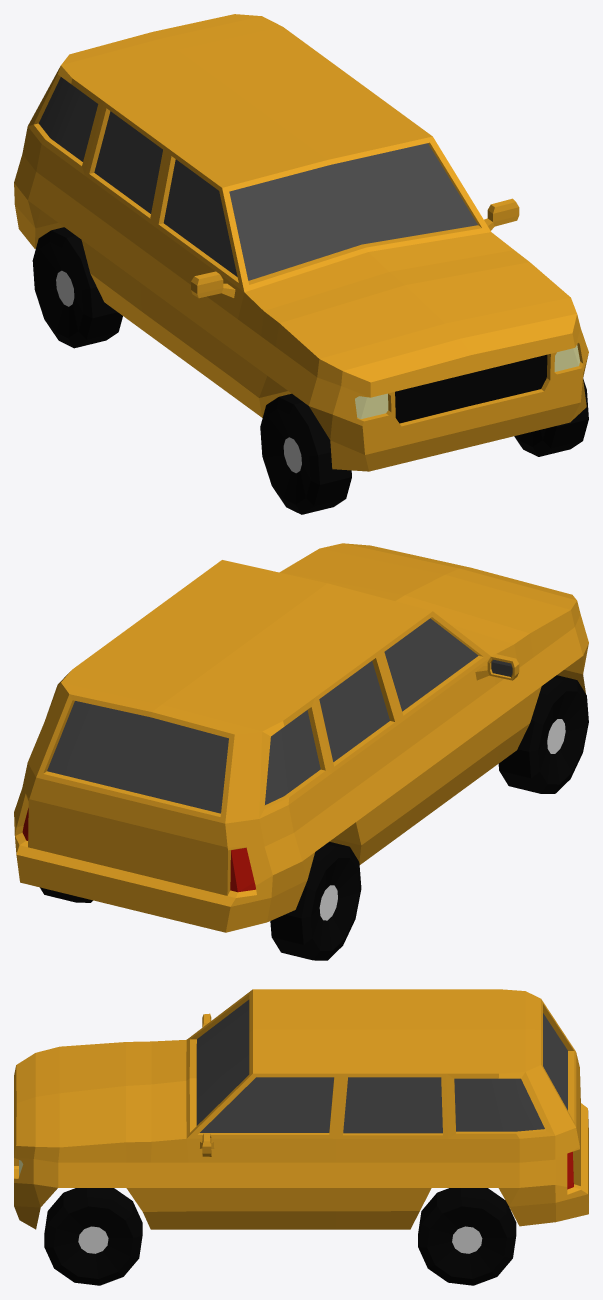
The model's file is 6gold.fbx.
The picture shows the model from 3 angles, top to bottom: view 1: azimuth 30°, elevation 25°; view 2: azimuth 150°, elevation 25°; view 3: azimuth 270°, elevation 25°; orthographic projection. The views are drawn at different scales.
Visible parts, largest first — view 1: Cube.001; view 2: Cube.001; view 3: Cube.001.
Boxes of the visible parts, <box> form: Cube.001: <box>14,14,588,514</box>; Cube.001: <box>14,543,588,960</box>; Cube.001: <box>14,989,588,1285</box>.
Bounding box in the file's own units: 128 × 93.04 × 240.
